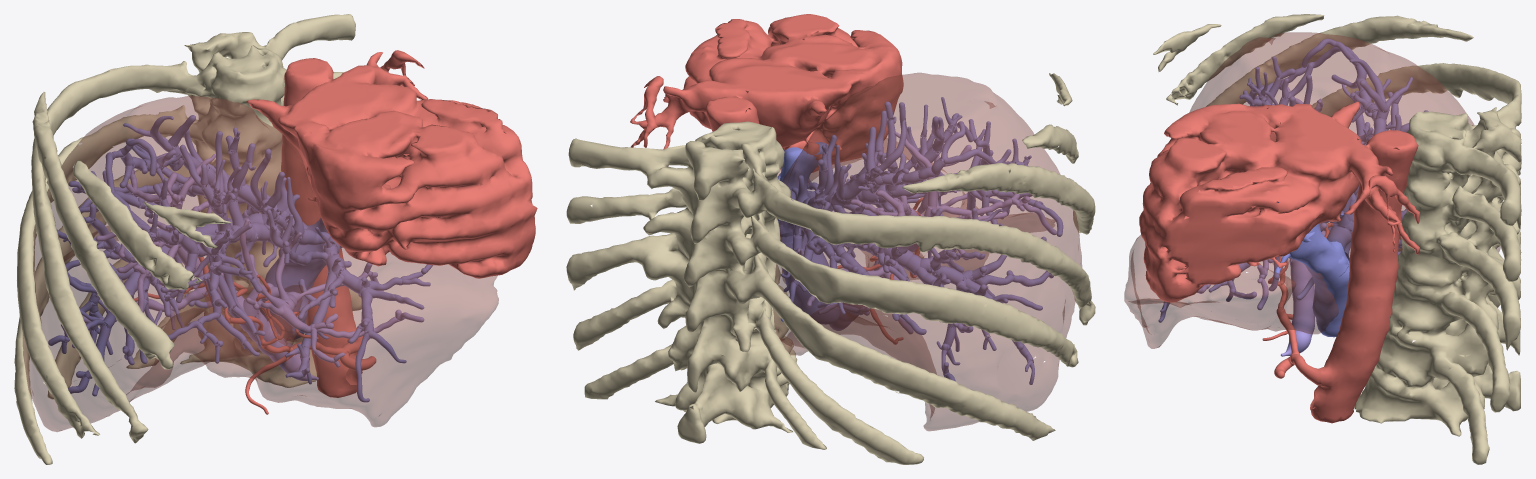
The model's file is Ananeu.glb.
The picture shows the model from 3 angles, left to right: view 1: azimuth 30°, elevation 25°; view 2: azimuth 150°, elevation 25°; view 3: azimuth 270°, elevation 25°; orthographic projection. The views are drawn at different scales.
Visible parts, largest first — view 1: skeleton; view 2: skeleton; view 3: skeleton.
Boxes of the visible parts, x1=… form: skeleton: x1=14, y1=14, x2=537, y2=464; skeleton: x1=566, y1=14, x2=1095, y2=464; skeleton: x1=1124, y1=14, x2=1521, y2=464.
Bounding box in the file's own units: 224 × 160 × 199.
